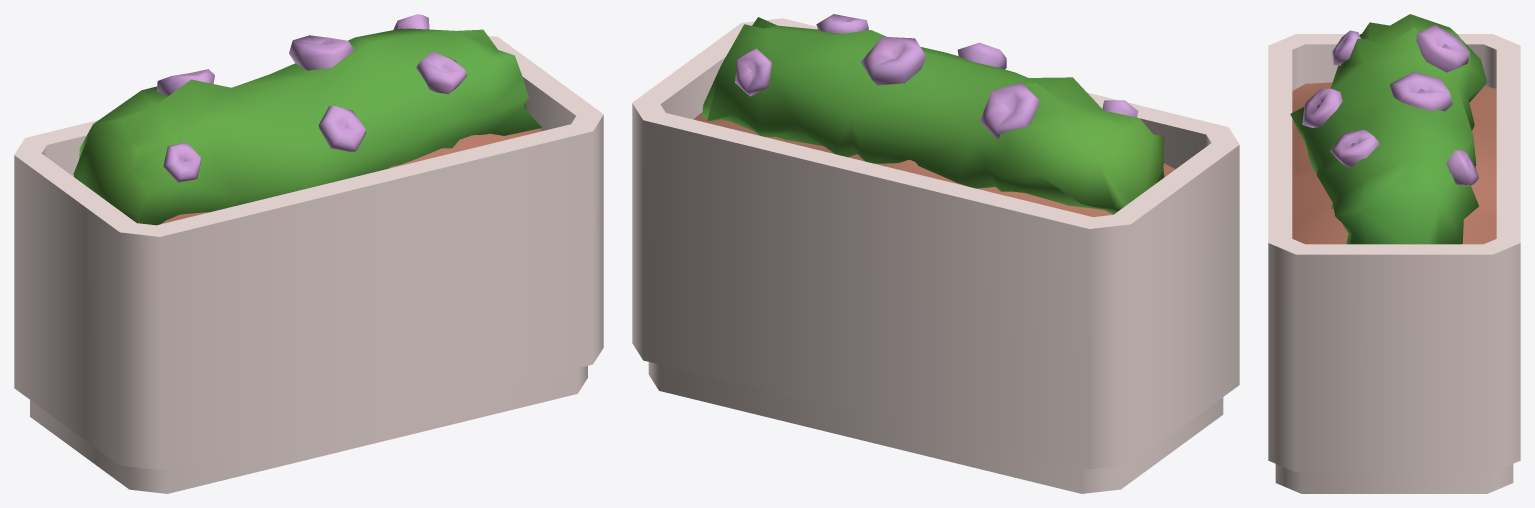
File: bush_002.glb
The picture shows the model from 3 angles, left to right: view 1: azimuth 30°, elevation 25°; view 2: azimuth 150°, elevation 25°; view 3: azimuth 270°, elevation 25°; orthographic projection. The views are drawn at different scales.
Parts seen in each view (by area): view 1: bush_002; view 2: bush_002; view 3: bush_002.
Boxes of the visible parts, <box> form: bush_002: <box>14,14,603,493</box>; bush_002: <box>632,14,1239,493</box>; bush_002: <box>1268,14,1520,493</box>.
Size of the model in its own units: 1.94 by 1.31 by 0.9365.
1 material, 1 textured.
